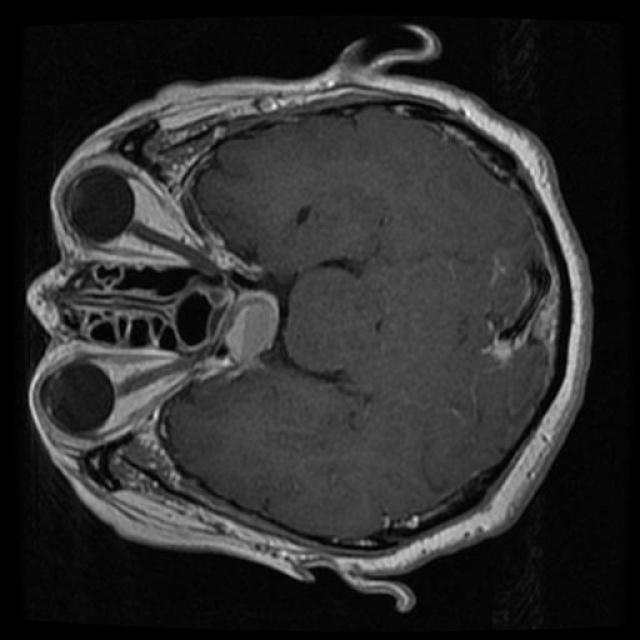Pituitary: (225, 292, 279, 363)
